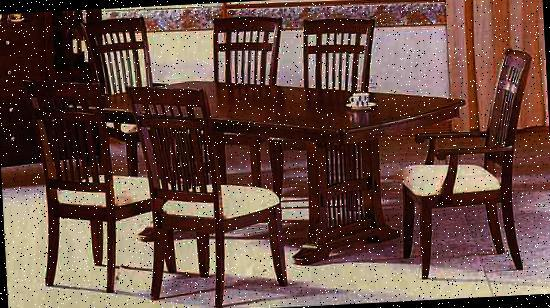Mesa: (47, 62, 477, 276)
Silla: (118, 74, 292, 307), (390, 36, 549, 281), (20, 68, 180, 296), (255, 12, 389, 246), (80, 13, 201, 221), (190, 14, 296, 208)
